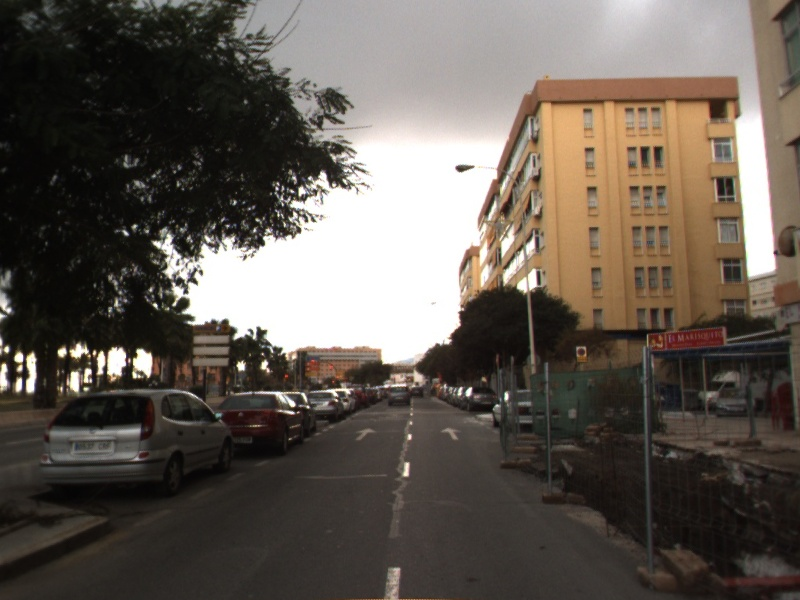STRAIGHT: (354, 426, 378, 441), (440, 426, 463, 441)
